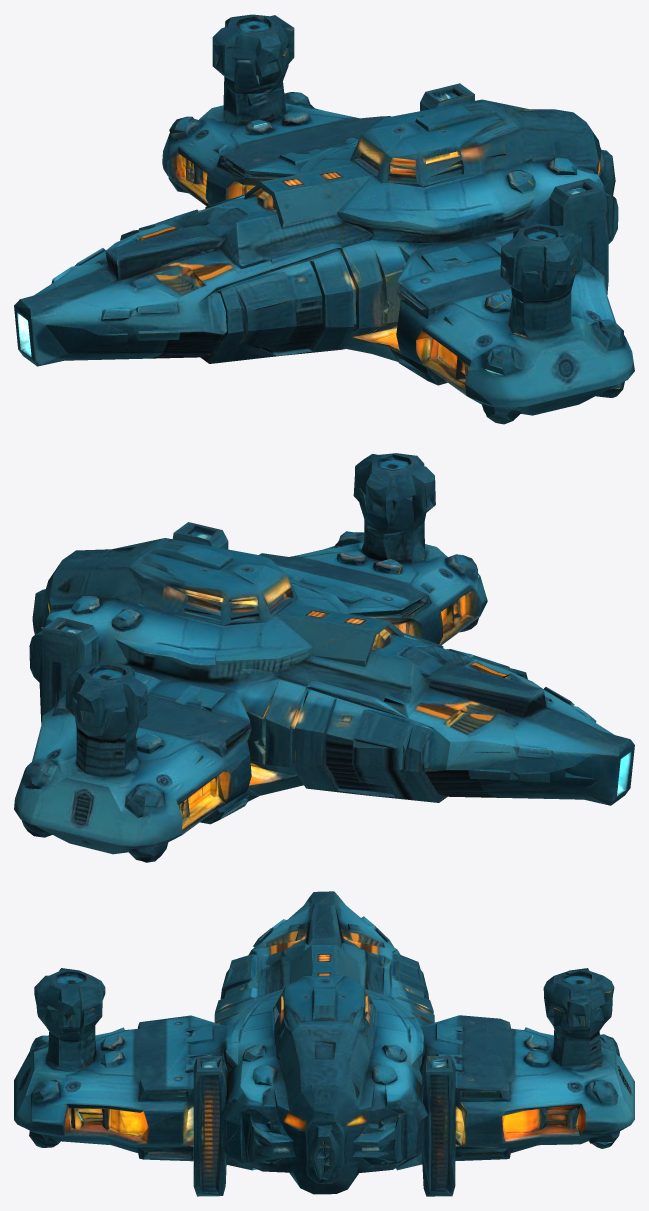
Rendered from nation-p-fortress.glb.
3 renders of one model, top to bottom at view 1: azimuth 30°, elevation 25°; view 2: azimuth 150°, elevation 25°; view 3: azimuth 270°, elevation 25°, orthographic. The views are drawn at different scales.
Size of the model in its own units: 1.83 by 0.5505 by 1.9.
Materials: 1 (1 with a texture image).
